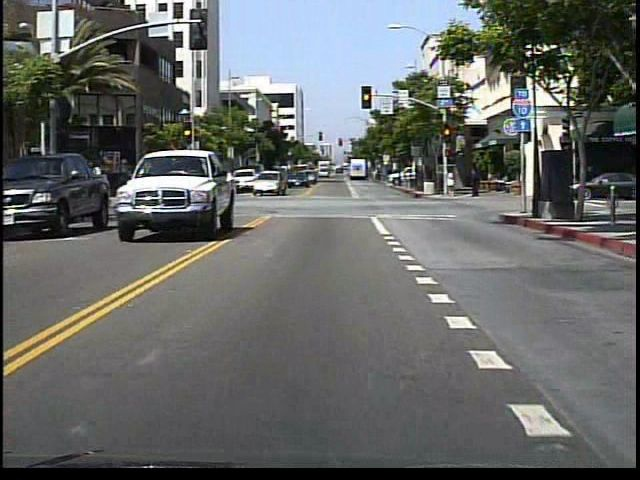person: (467, 167, 482, 200), (176, 169, 189, 197), (446, 167, 457, 198)
